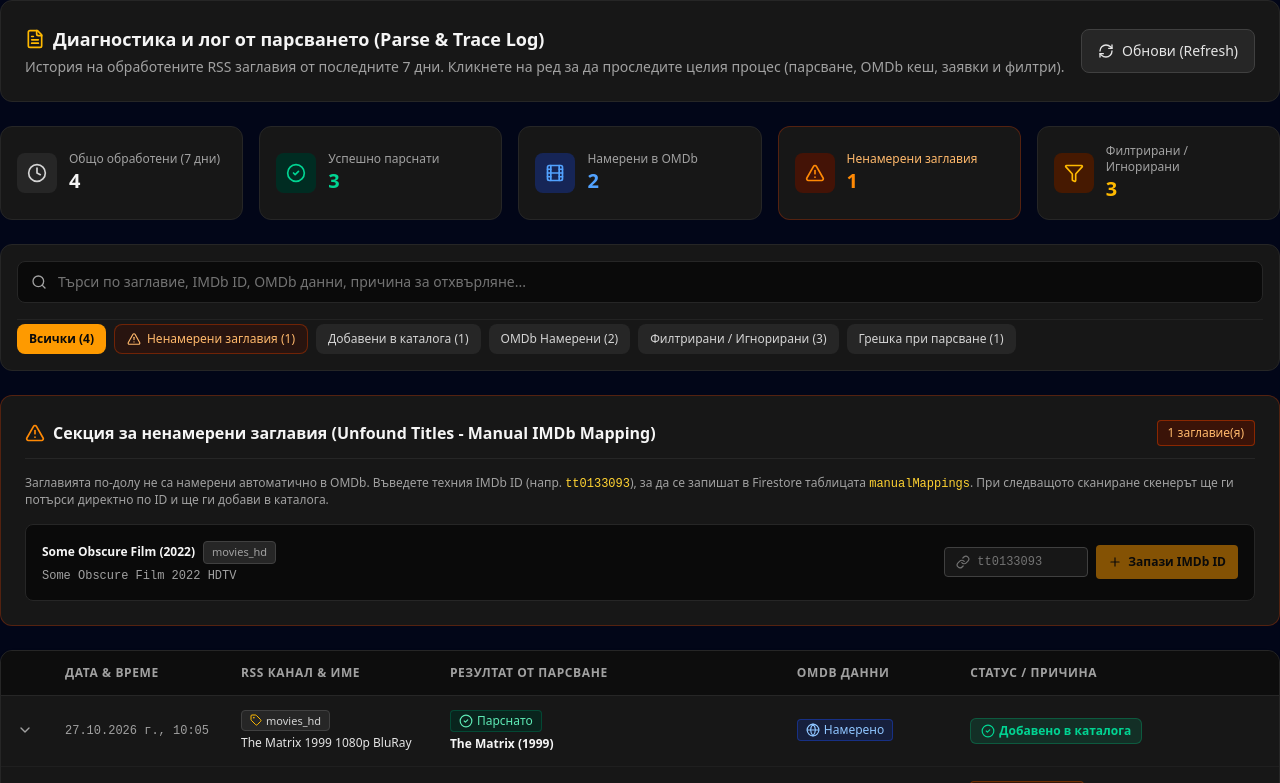
Test: ParseLogView › displays parser error message and filters by failed parse tab
expect the text with test id "metric-total" reads "4": met, box [69,167,80,194]
// Click 'Failed parse' filter tab
Click the button with test id "filter-tab-failed".
click(931, 339)  # box [846,324,1016,354]
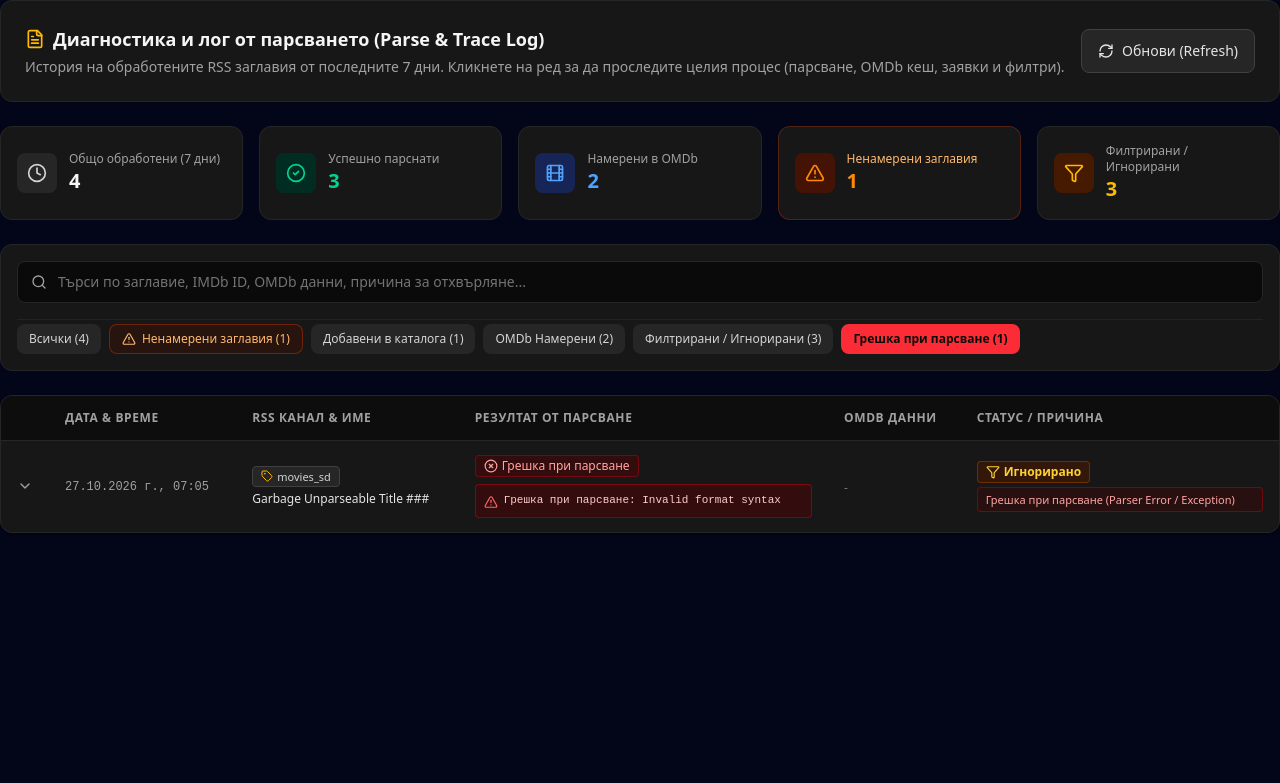
expect the text "Garbage Unparseable Title ###" is shown: met, box [252,491,443,507]
expect the text "The Matrix 1999 1080p BluRay" is gone: met
